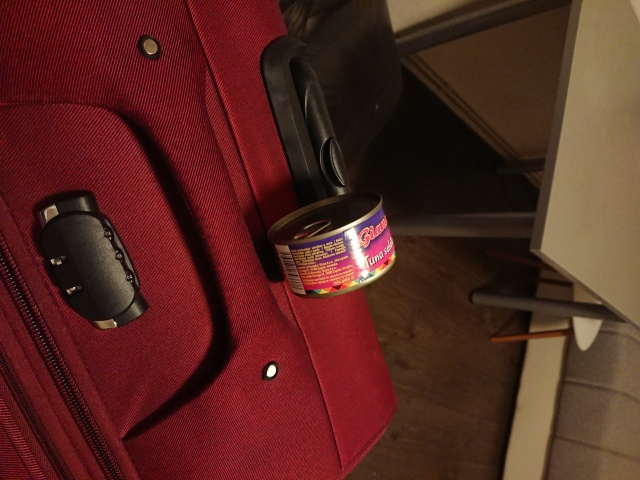Giana Tuna Salad Mexico 185g: (265, 189, 399, 301)
